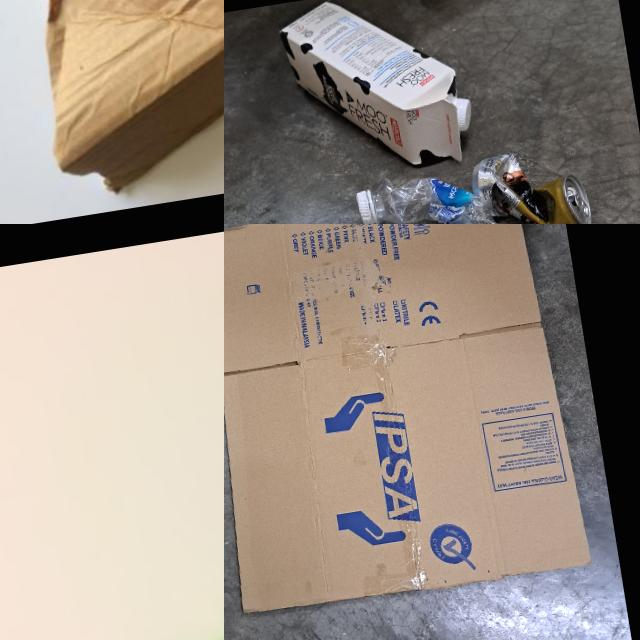aba de lata: (574, 192, 590, 218)
caixinha: (276, 0, 472, 187)
garrafa de vidro: (0, 512, 224, 640)
garrafa plástica: (368, 159, 522, 224)
lata: (468, 143, 595, 224)
papelão: (224, 224, 605, 634), (0, 0, 224, 206)
tampa plástica: (450, 96, 474, 132), (355, 188, 377, 224)
